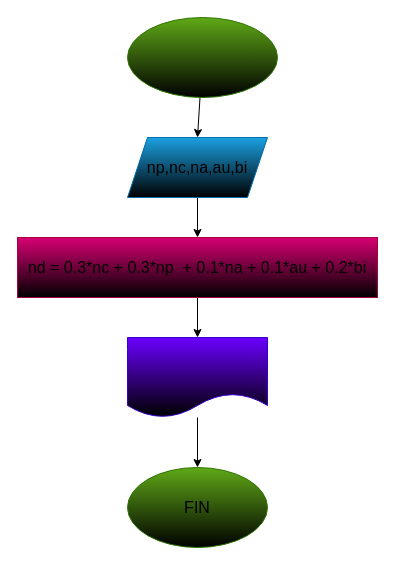
This 395x565 diagram has some shape labels left out. The shapes that lost their labels are listed below. From the top down, each one's box as (x1, y1, x2, y2) in pixels, then its label:
(126, 16, 278, 98): INICIO
(126, 336, 268, 418): nd
